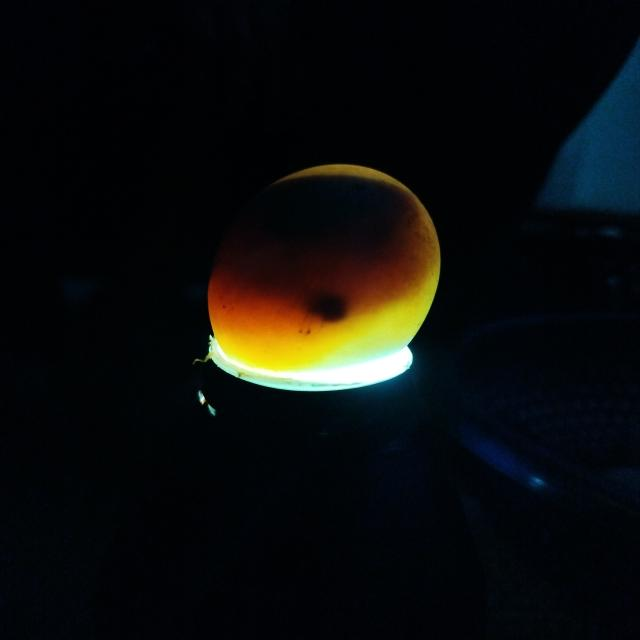Area Infectada: (216, 175, 431, 324)
